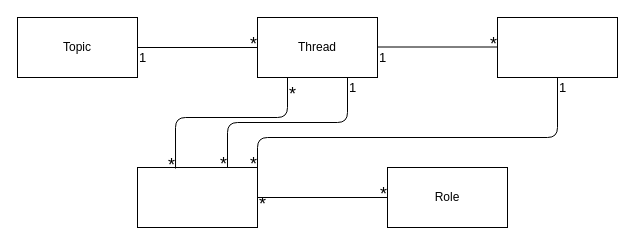
This 635x245 diagram has some shape labels left out. Each missing label, with the centre of its shape:
Message: point 557,47
User: point 197,197
